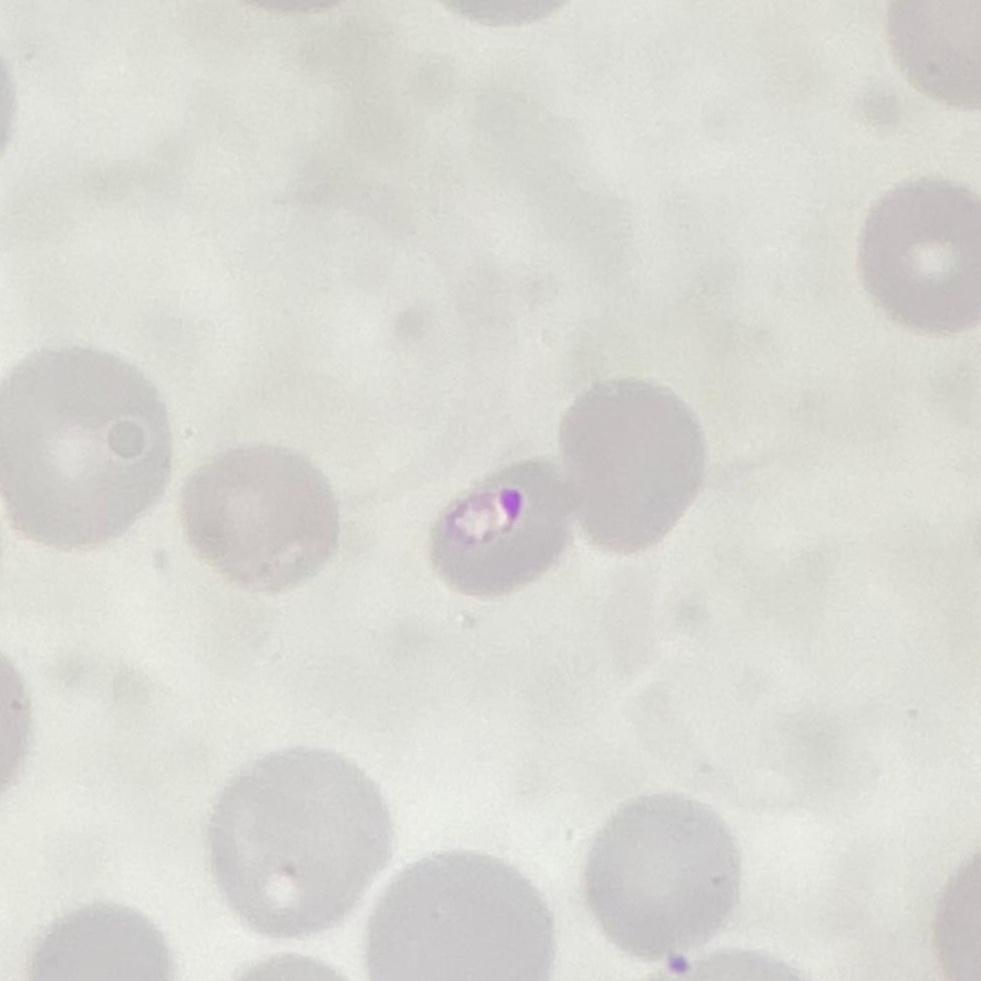Infected: (428, 458, 577, 601)
Uninfected: (0, 342, 173, 550), (208, 744, 398, 932), (582, 790, 745, 961), (556, 380, 707, 553), (366, 849, 560, 981), (180, 446, 339, 595), (862, 172, 981, 339)
